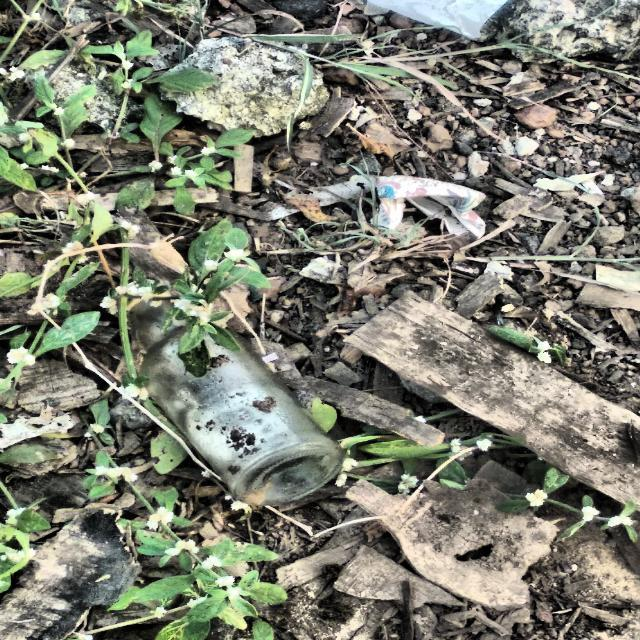anorganik: (117, 281, 346, 509), (333, 0, 506, 36)
organik: (346, 286, 640, 519)
